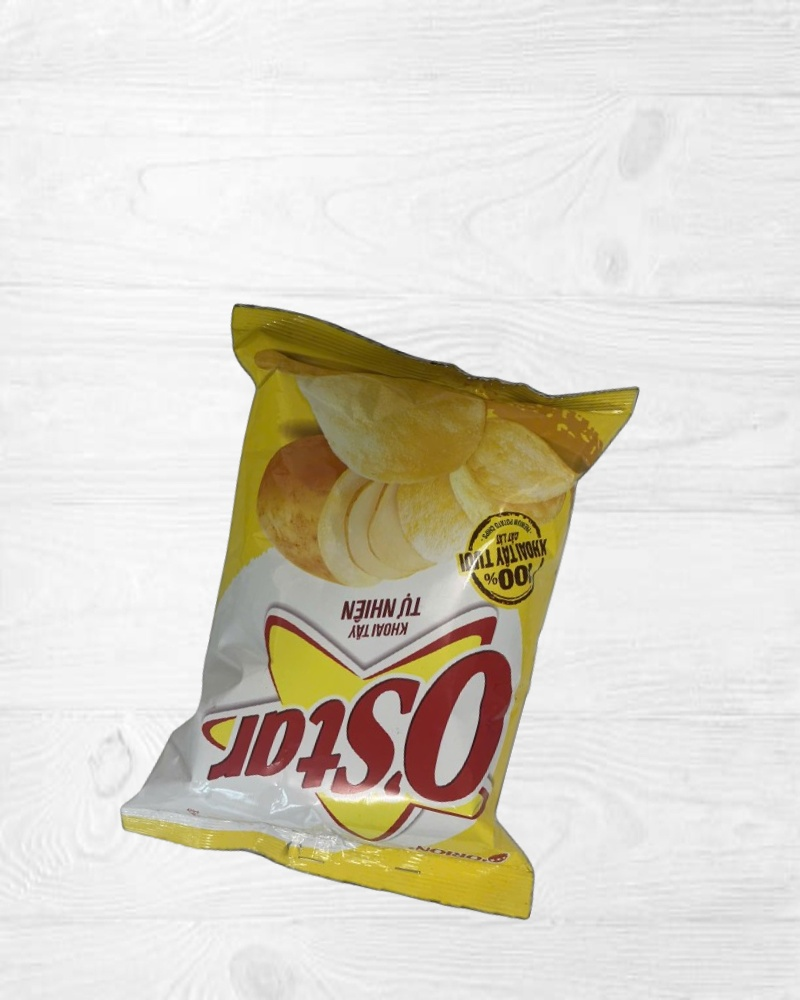Snack cua: (102, 289, 665, 931)
